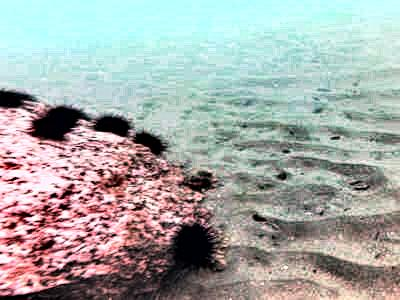urchin: (174, 223, 213, 269), (45, 105, 89, 128), (30, 118, 68, 141), (94, 114, 128, 136), (3, 89, 32, 109), (134, 132, 160, 154)
